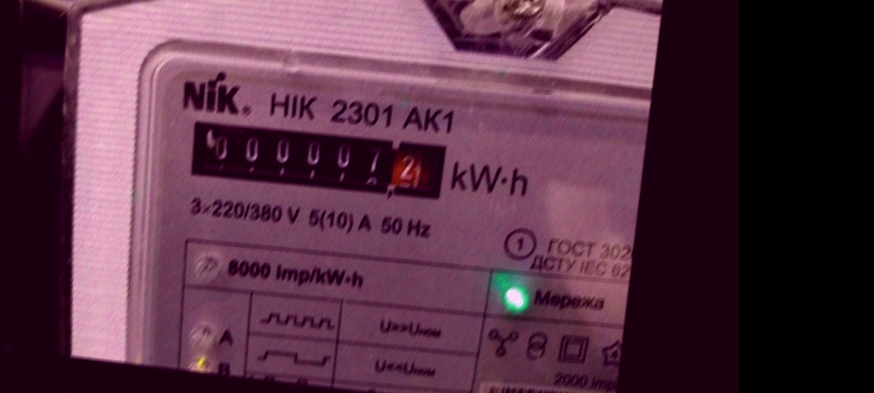0: (271, 136, 292, 165), (241, 135, 261, 165), (210, 133, 230, 162), (333, 141, 352, 170), (303, 138, 321, 167)
2: (397, 152, 416, 183)
7: (363, 145, 382, 176)
screen: (179, 108, 458, 212)
